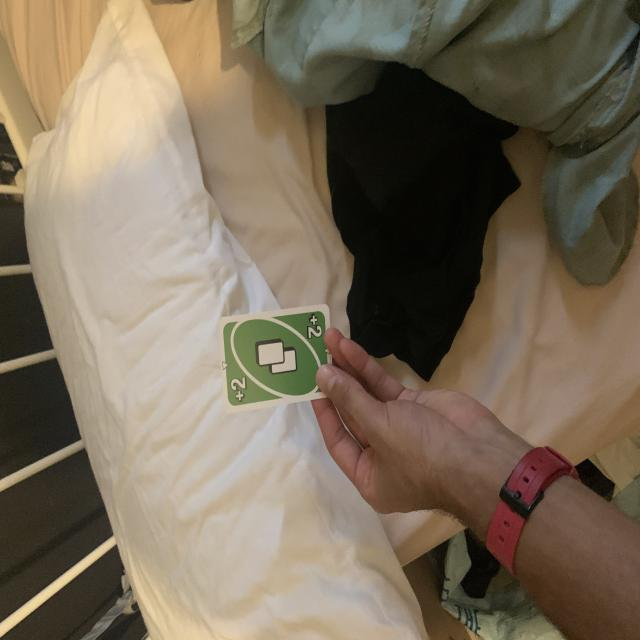lgreen-20: (304, 312, 324, 343)
